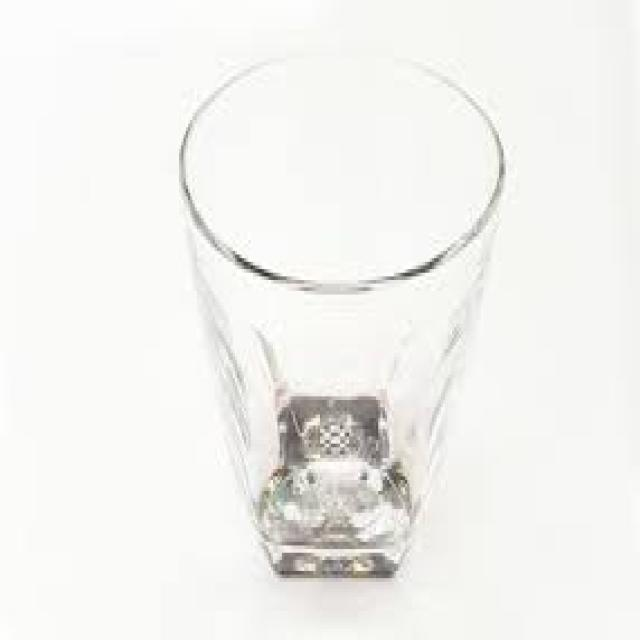glass: (177, 44, 501, 575)
